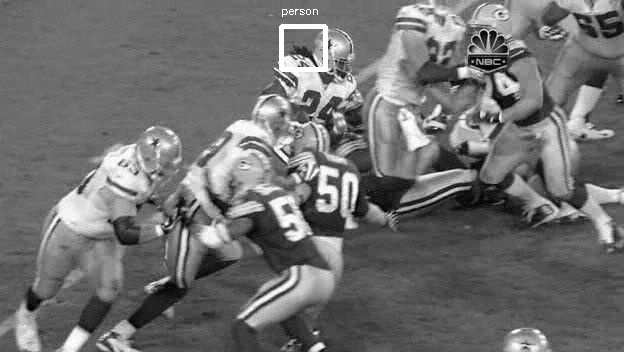person: (320, 31, 356, 76), (319, 31, 355, 76), (321, 31, 357, 76), (320, 30, 356, 75), (320, 32, 356, 77)
target_negative: (169, 26, 547, 143), (406, 33, 594, 225), (159, 172, 382, 251), (308, 233, 618, 263), (614, 126, 624, 229), (216, 161, 222, 182)
